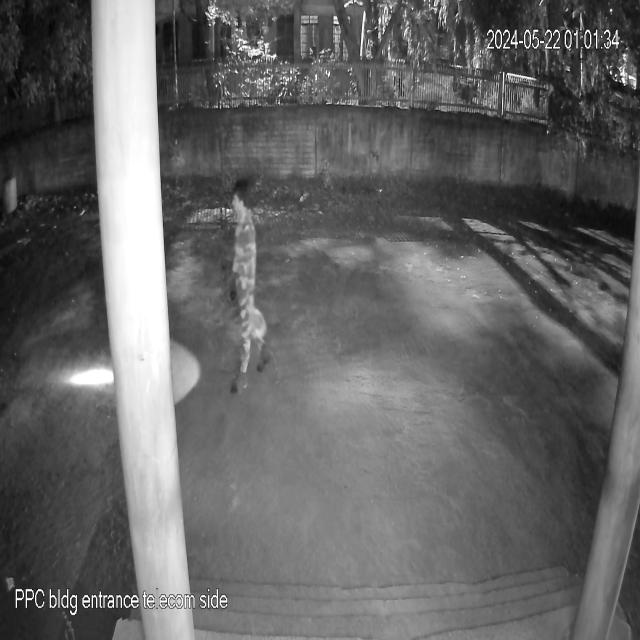no-safety-helmet: (229, 177, 255, 219)
safety-shoes: (255, 345, 280, 375), (230, 364, 250, 401)
